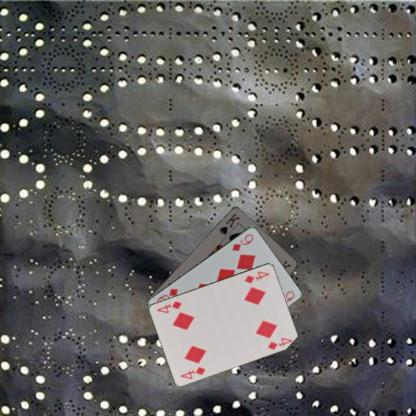4d: (178, 364, 207, 380), (242, 268, 270, 284)
9d: (229, 231, 255, 252)
Ks: (217, 210, 242, 236)
